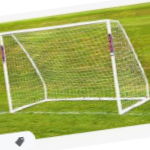goals: (1, 18, 150, 114)
